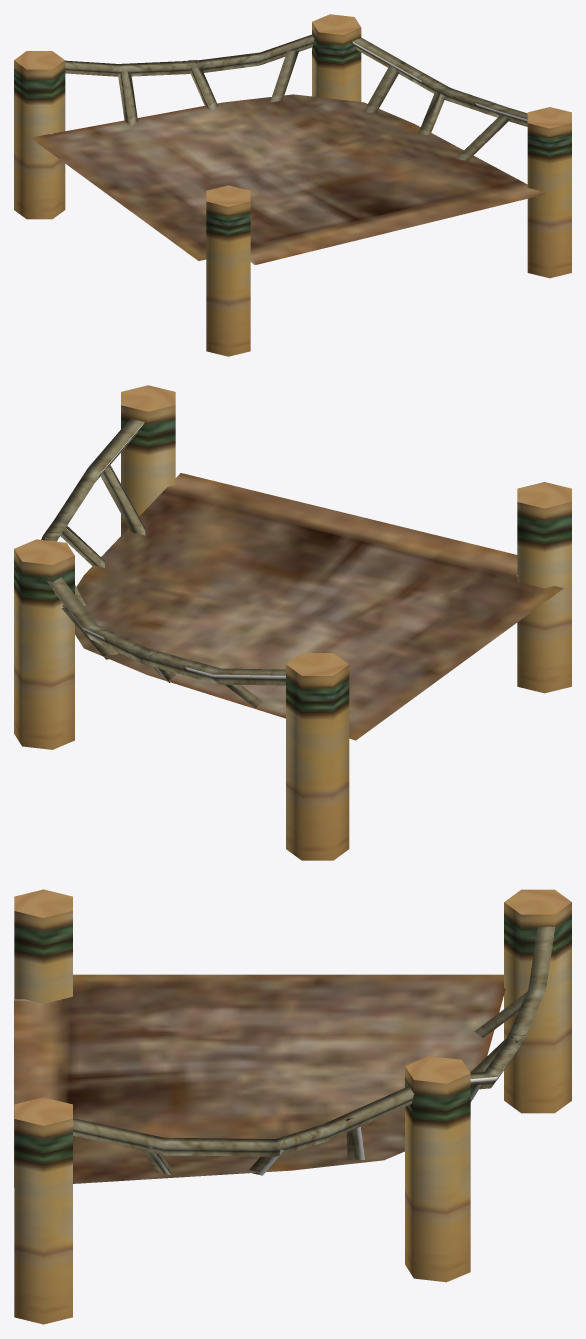
Rendered from jun_tile_corner.obj.
The picture shows the model from 3 angles, top to bottom: view 1: azimuth 30°, elevation 25°; view 2: azimuth 150°, elevation 25°; view 3: azimuth 270°, elevation 25°; orthographic projection. The views are drawn at different scales.
Visible parts, largest first — view 1: tile_corner04; view 2: tile_corner04; view 3: tile_corner04.
Boxes of the visible parts, x1=… form: tile_corner04: x1=14, y1=14, x2=571, y2=356; tile_corner04: x1=14, y1=385, x2=571, y2=860; tile_corner04: x1=14, y1=889, x2=571, y2=1324.
Bounding box in the file's own units: 1 × 0.3923 × 0.9991.
Materials: 1 (1 with a texture image).
